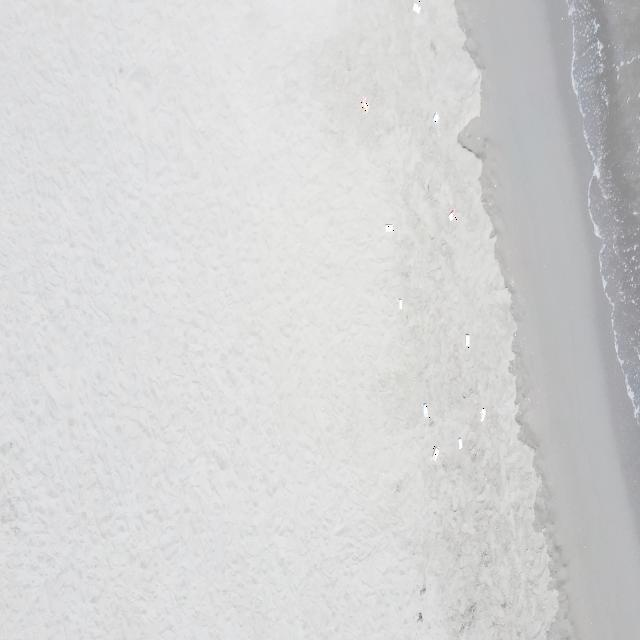retort-pouch: (361, 96, 370, 114), (448, 207, 457, 223), (431, 446, 440, 462), (422, 402, 430, 419), (412, 1, 421, 16), (479, 407, 487, 423), (432, 110, 441, 124), (385, 222, 394, 235), (464, 332, 471, 348), (398, 297, 403, 312), (457, 437, 462, 451)
